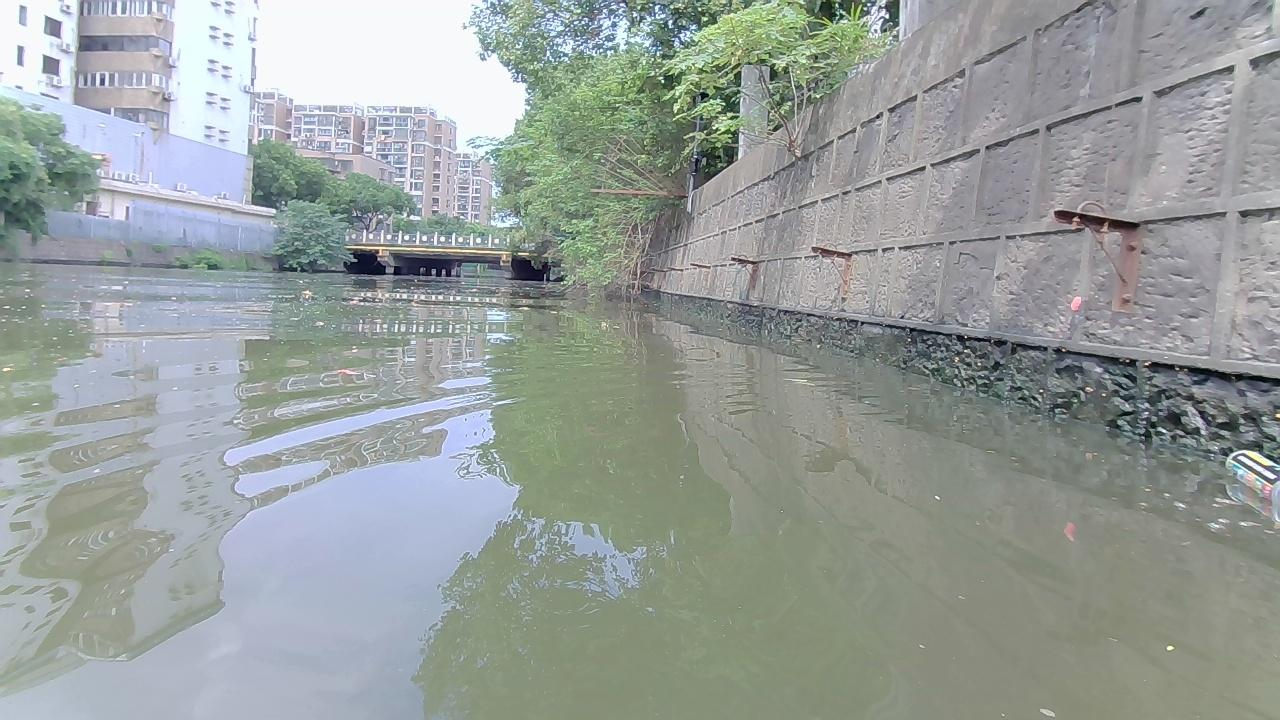bottle: (1223, 448, 1279, 496)
